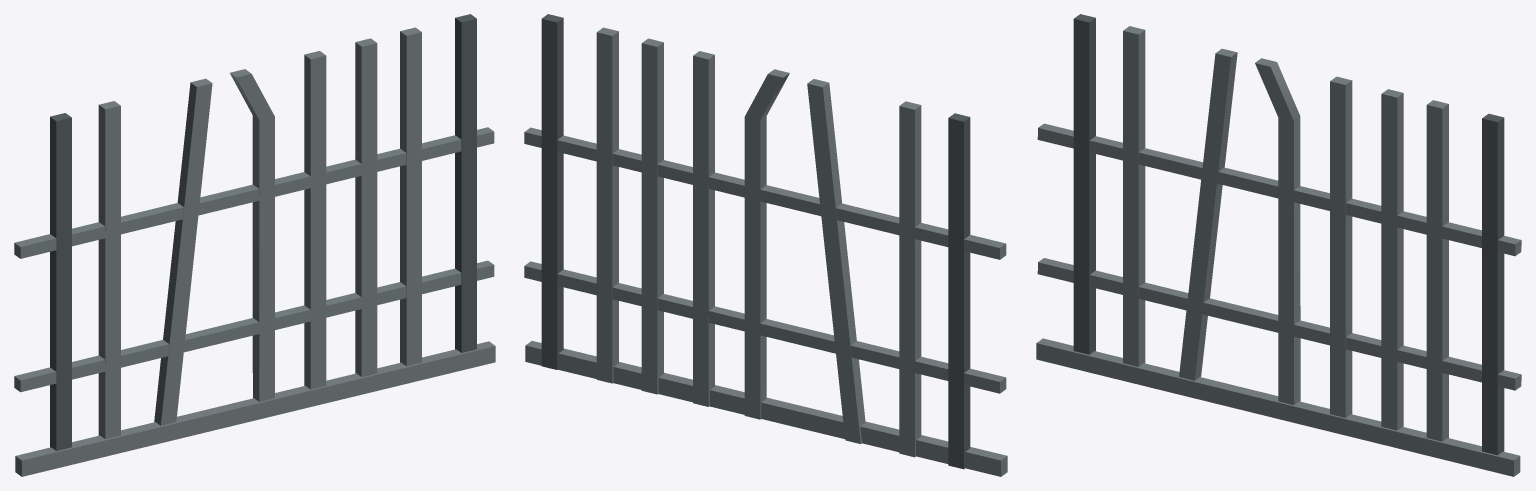
Rendered from Jail_Cell_Short_Type1.fbx.
The picture shows the model from 3 angles, left to right: view 1: azimuth 30°, elevation 25°; view 2: azimuth 150°, elevation 25°; view 3: azimuth 330°, elevation 25°; orthographic projection.
Visible parts, largest first — view 1: Jail_Cell_Short_Type1; view 2: Jail_Cell_Short_Type1; view 3: Jail_Cell_Short_Type1.
Part boxes in pixels (box(x1,y1,x2,y2)): Jail_Cell_Short_Type1: box(14, 14, 495, 476); Jail_Cell_Short_Type1: box(524, 14, 1007, 476); Jail_Cell_Short_Type1: box(1036, 14, 1521, 476).
Bounding box in the file's own units: 6.51 × 4.56 × 0.1844.
